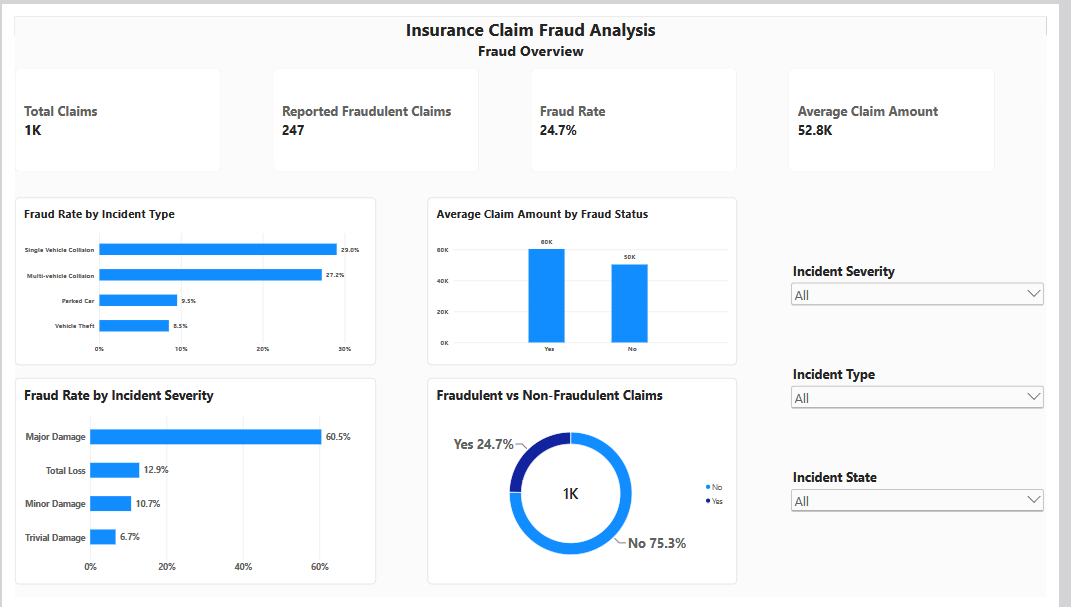

What the dashboard file says about the page in this screenshot:
{"tool":"powerbi","page":{"name":"Page 1","canvas":[1920,1080],"ordinal":0},"visuals":[{"type":"cardVisual","fields":{"Data":["insurance_claims.Total claims"]},"box":[0,96,384,192],"z":0},{"type":"cardVisual","fields":{"Data":["insurance_claims.Fraudulent claims"]},"box":[480,96,384,192],"z":1},{"type":"cardVisual","fields":{"Data":["insurance_claims.Fraud rate"]},"box":[960,96,384,192],"z":2},{"type":"cardVisual","fields":{"Data":["insurance_claims.Average Claim Amount"]},"box":[1440,96,384,192],"z":4},{"type":"clusteredBarChart","title":"Fraud Rate by Incident Severity","fields":{"Category":["insurance_claims.incident_severity"],"Y":["insurance_claims.Fraud Rate"]},"box":[0,672,672,384],"z":5},{"type":"donutChart","title":"Fraudulent vs Non-Fraudulent Claims","fields":{"Category":["insurance_claims.Fraud Status"],"Y":["insurance_claims.Total Claims"]},"box":[768,672,576,384],"z":6},{"type":"clusteredBarChart","title":"Fraud Rate by Incident Type","fields":{"Category":["insurance_claims.incident_type"],"Y":["insurance_claims.Fraud Rate"]},"box":[0,336,672,312],"z":7},{"type":"clusteredColumnChart","title":"Average Claim Amount by Fraud Status","fields":{"Category":["insurance_claims.Fraud Status"],"Y":["insurance_claims.Average Claim Amount"]},"box":[768,336,576,312],"z":8},{"type":"slicer","fields":{"Values":["insurance_claims.incident_severity"]},"box":[1440,456,480,120],"z":9},{"type":"slicer","fields":{"Values":["insurance_claims.incident_type"]},"box":[1440,648,480,120],"z":10},{"type":"slicer","fields":{"Values":["insurance_claims.incident_state"]},"box":[1440,840,480,120],"z":11},{"type":"textbox","box":[96,0,1728,96],"z":12}]}

Visuals, with their boxes in screenshot pixels (x1, y1, x2, y2), scaled from the page's 1920x1080 canvas onto the 1071x607 screenshot:
cardVisual - insurance_claims.Total claims: 0, 54, 214, 162
cardVisual - insurance_claims.Fraudulent claims: 268, 54, 482, 162
cardVisual - insurance_claims.Fraud rate: 536, 54, 750, 162
cardVisual - insurance_claims.Average Claim Amount: 803, 54, 1017, 162
"Fraud Rate by Incident Severity" clusteredBarChart: 0, 378, 375, 594
"Fraudulent vs Non-Fraudulent Claims" donutChart: 428, 378, 750, 594
"Fraud Rate by Incident Type" clusteredBarChart: 0, 189, 375, 364
"Average Claim Amount by Fraud Status" clusteredColumnChart: 428, 189, 750, 364
slicer - insurance_claims.incident_severity: 803, 256, 1070, 324
slicer - insurance_claims.incident_type: 803, 364, 1070, 432
slicer - insurance_claims.incident_state: 803, 472, 1070, 540
textbox: 54, 0, 1017, 54
